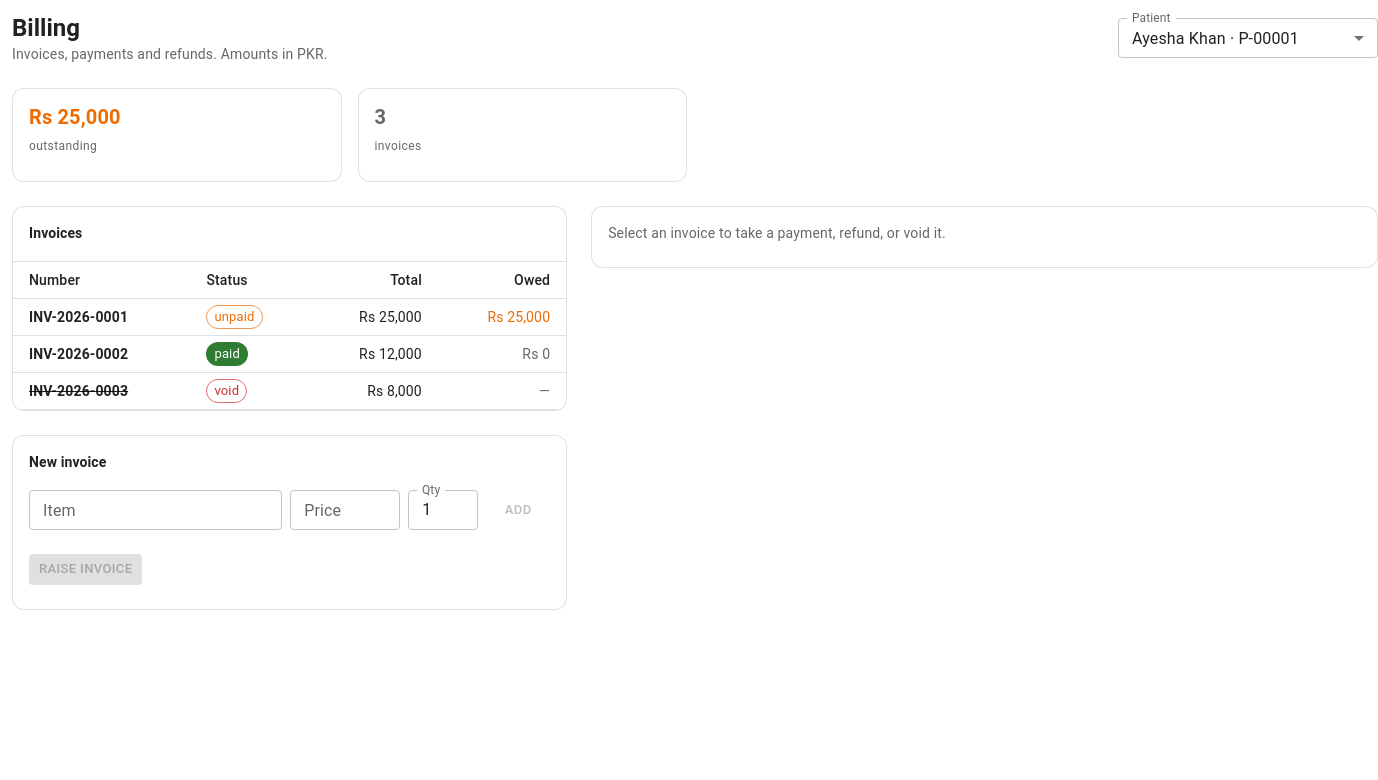
Scenario: taking a payment › treats a blank amount as the whole outstanding balance, never as zero
Click the text "INV-2026-0001": (102, 317) [13,298,190,336]
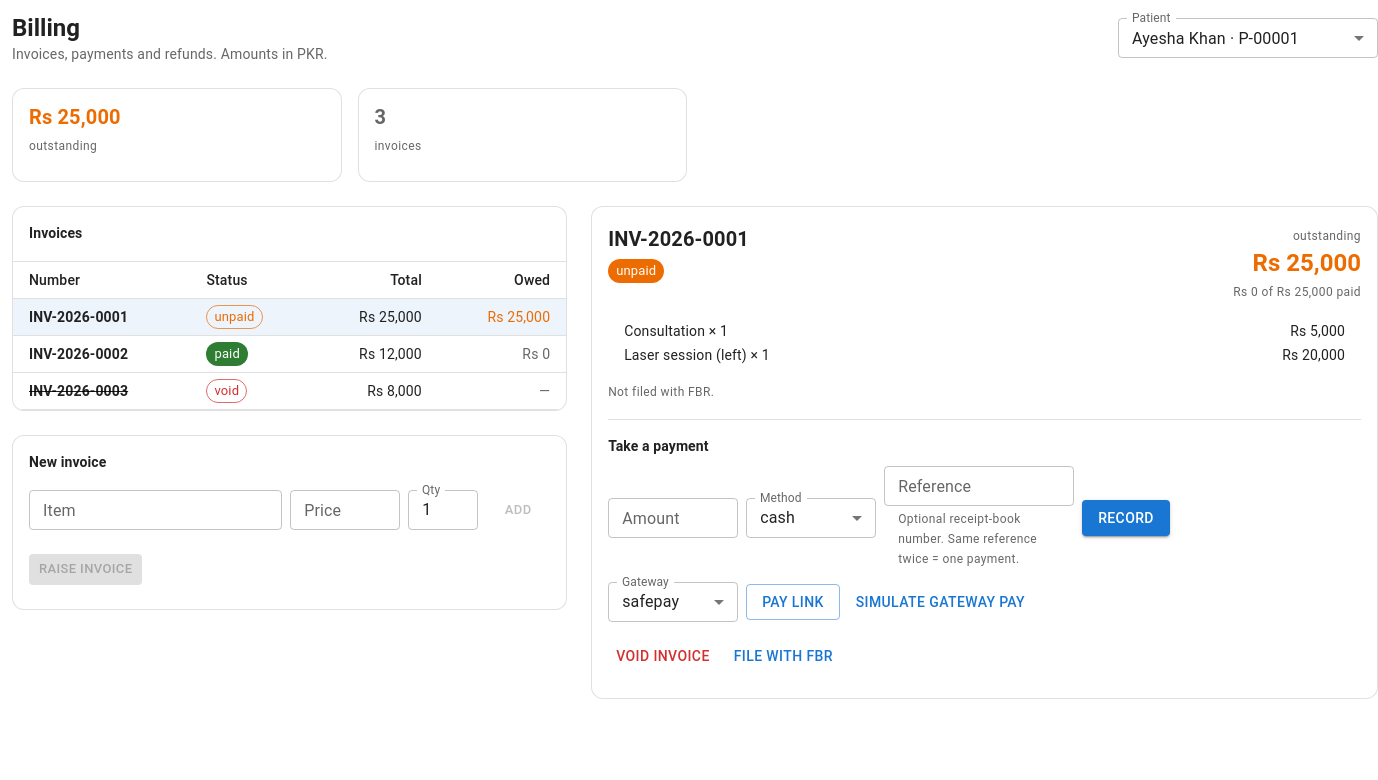
Result: the heading "INV-2026-0001" is shown at [608,223,749,255]
Click the button "Record": (1126, 518) [1082,500,1170,536]
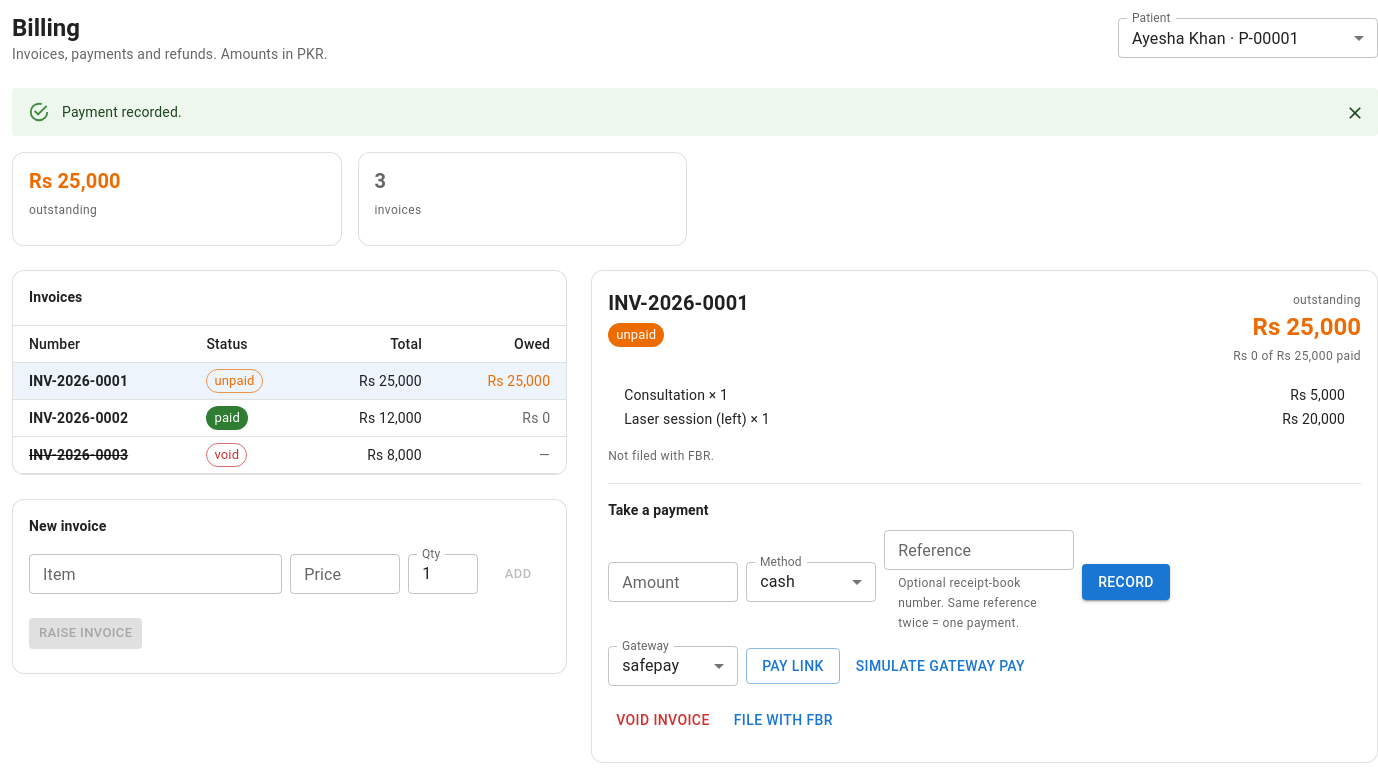
Result: the text "Payment recorded." is shown at [62,104,182,120]
